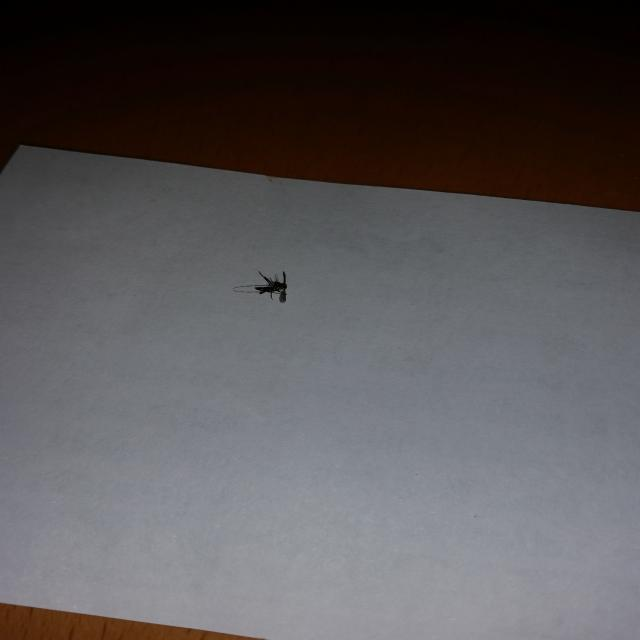albopictus: (230, 267, 300, 304)
